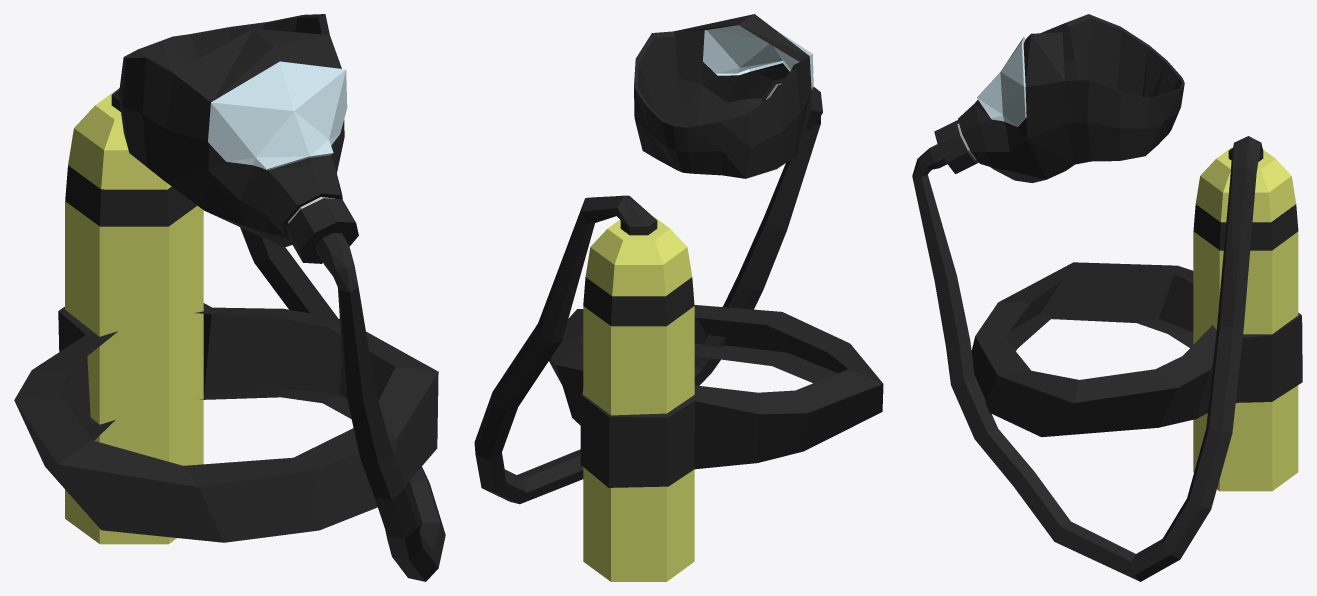
Rendered from Firefighter_Mask.fbx.
The picture shows the model from 3 angles, left to right: view 1: azimuth 30°, elevation 25°; view 2: azimuth 150°, elevation 25°; view 3: azimuth 270°, elevation 25°; orthographic projection. The views are drawn at different scales.
Parts seen in each view (by area): view 1: Firefighter_Mask; view 2: Firefighter_Mask; view 3: Firefighter_Mask.
Part boxes in pixels (x1,y1,x2,y2): Firefighter_Mask: [14, 14, 445, 581]; Firefighter_Mask: [474, 14, 883, 581]; Firefighter_Mask: [912, 14, 1302, 581].
Bounding box in the file's own units: 55.02 × 73.69 × 56.22.
